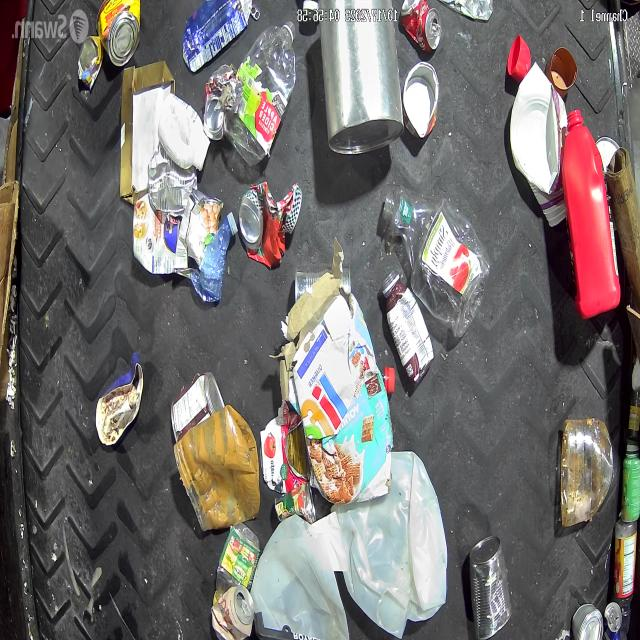can: (238, 180, 303, 269), (173, 188, 223, 281), (466, 534, 509, 638), (170, 369, 226, 443), (148, 144, 198, 216), (211, 582, 255, 640), (102, 3, 140, 64), (399, 0, 440, 56), (294, 263, 352, 302), (201, 67, 229, 141), (76, 36, 104, 90), (571, 602, 604, 640), (603, 600, 623, 640)
milk_jug: (331, 448, 449, 640), (250, 515, 349, 640)
non_white_jug: (562, 107, 619, 319)
plastic_bottle: (230, 18, 299, 158)
